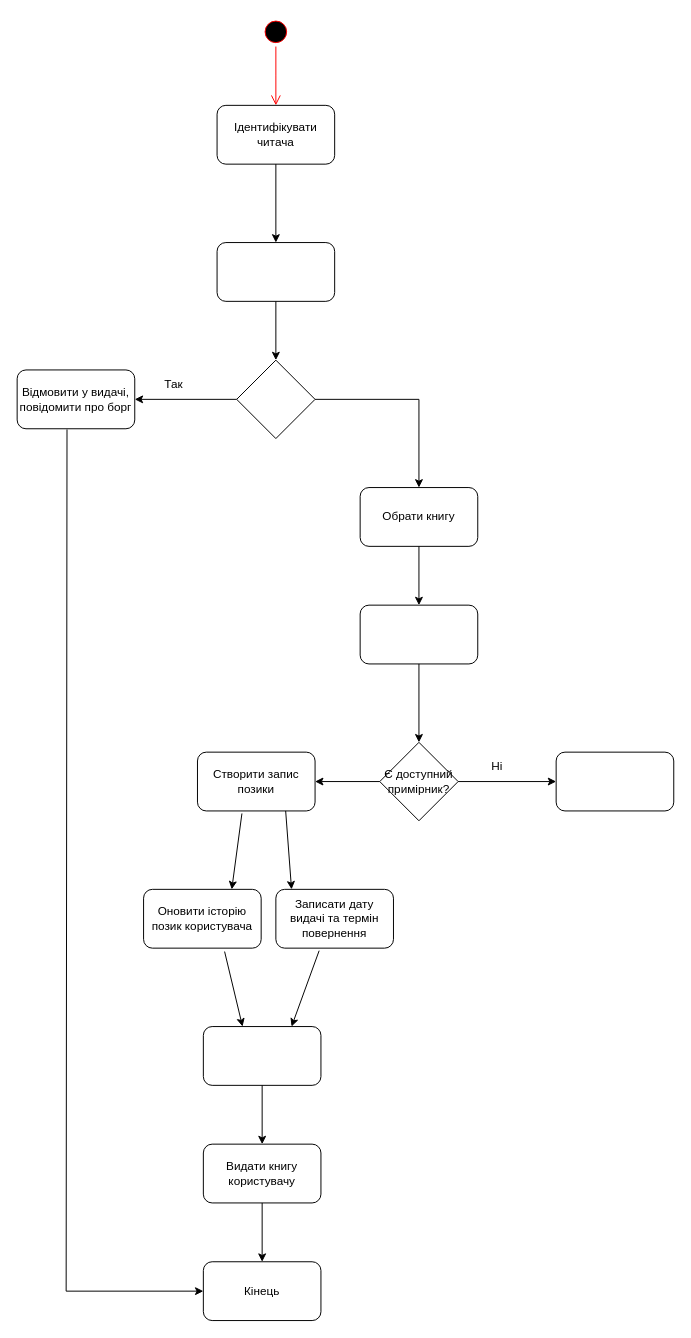
Image size: 691x1338. Some labels were removed from this diagram. The shapes that lost their labels are listed below. From the top down, each one's centre as x and y in pixels, then its label:
(x=275, y=271): Перевірити заборгованості читача
(x=275, y=399): Є прострочені книги?
(x=418, y=634): Перевірити доступність примірника
(x=614, y=781): Запропонувати бронювання або іншу книгу
(x=261, y=1055): Оновити історію позик читача
